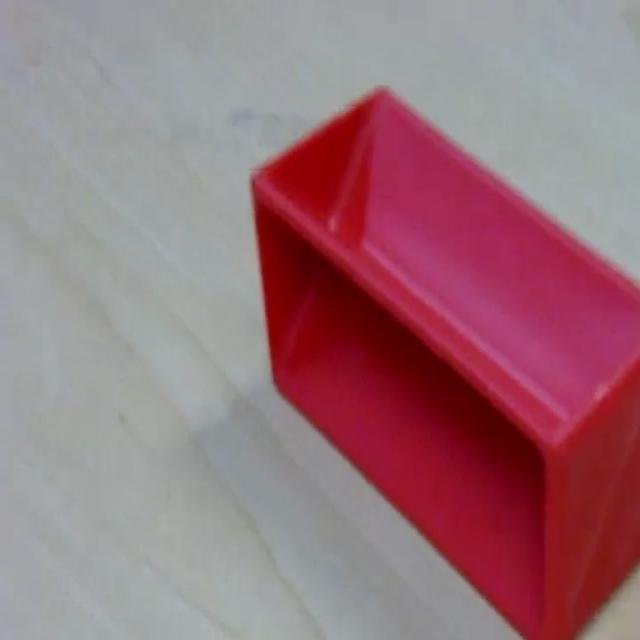red_block: (248, 83, 638, 636)
